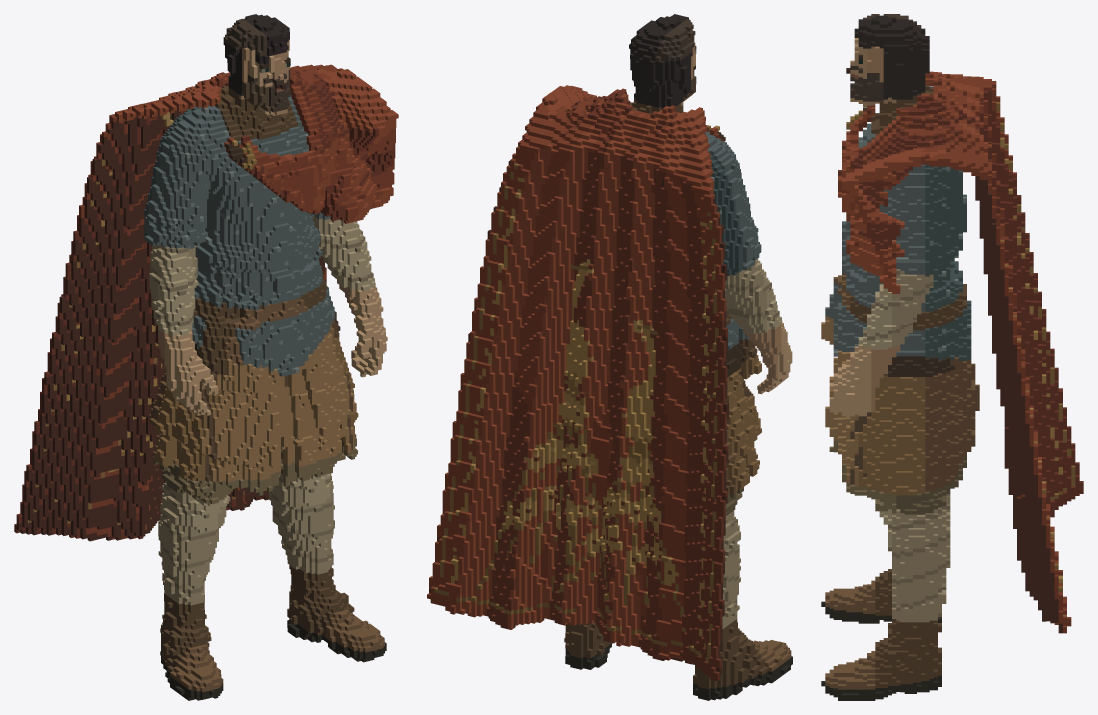
File: mercenary-sculpted.glb
3 renders of one model, left to right at view 1: azimuth 30°, elevation 25°; view 2: azimuth 150°, elevation 25°; view 3: azimuth 270°, elevation 25°, orthographic.
Visible parts, largest first — view 1: cape, torso, rightThigh, leftShin, rightShin, leftThigh, rightForearm, rightUpperArm, leftForearm, head; view 2: cape, rightShin, head, rightForearm, rightThigh, rightUpperArm, leftShin, torso; view 3: cape, leftThigh, leftShin, torso, leftForearm, head, leftUpperArm, rightShin, rightThigh.
Boxes of the visible parts, box(x1,y1,x2,y2) form: cape: box(14, 64, 398, 541); torso: box(167, 85, 335, 379); rightThigh: box(149, 342, 288, 504); leftShin: box(268, 473, 386, 662); rightShin: box(158, 481, 230, 700); leftThigh: box(281, 312, 358, 486); rightForearm: box(149, 244, 218, 415); rightUpperArm: box(144, 129, 211, 249); leftForearm: box(312, 216, 387, 377); head: box(223, 14, 290, 116); cape: box(427, 85, 728, 681); rightShin: box(693, 510, 792, 700); head: box(629, 14, 696, 109); rightForearm: box(725, 259, 792, 394); rightThigh: box(724, 339, 761, 515); rightUpperArm: box(711, 148, 761, 276); leftShin: box(564, 622, 612, 669); torso: box(630, 98, 748, 349); cape: box(838, 71, 1083, 633); leftThigh: box(829, 350, 975, 514); leftShin: box(821, 506, 950, 700); torso: box(825, 85, 971, 360); leftForearm: box(829, 269, 933, 418); head: box(846, 14, 929, 105); leftUpperArm: box(883, 164, 962, 276); rightShin: box(821, 494, 950, 623); rightThigh: box(821, 316, 979, 452).
Bounding box in the file's own units: 1.02 × 2.1 × 0.7875.
